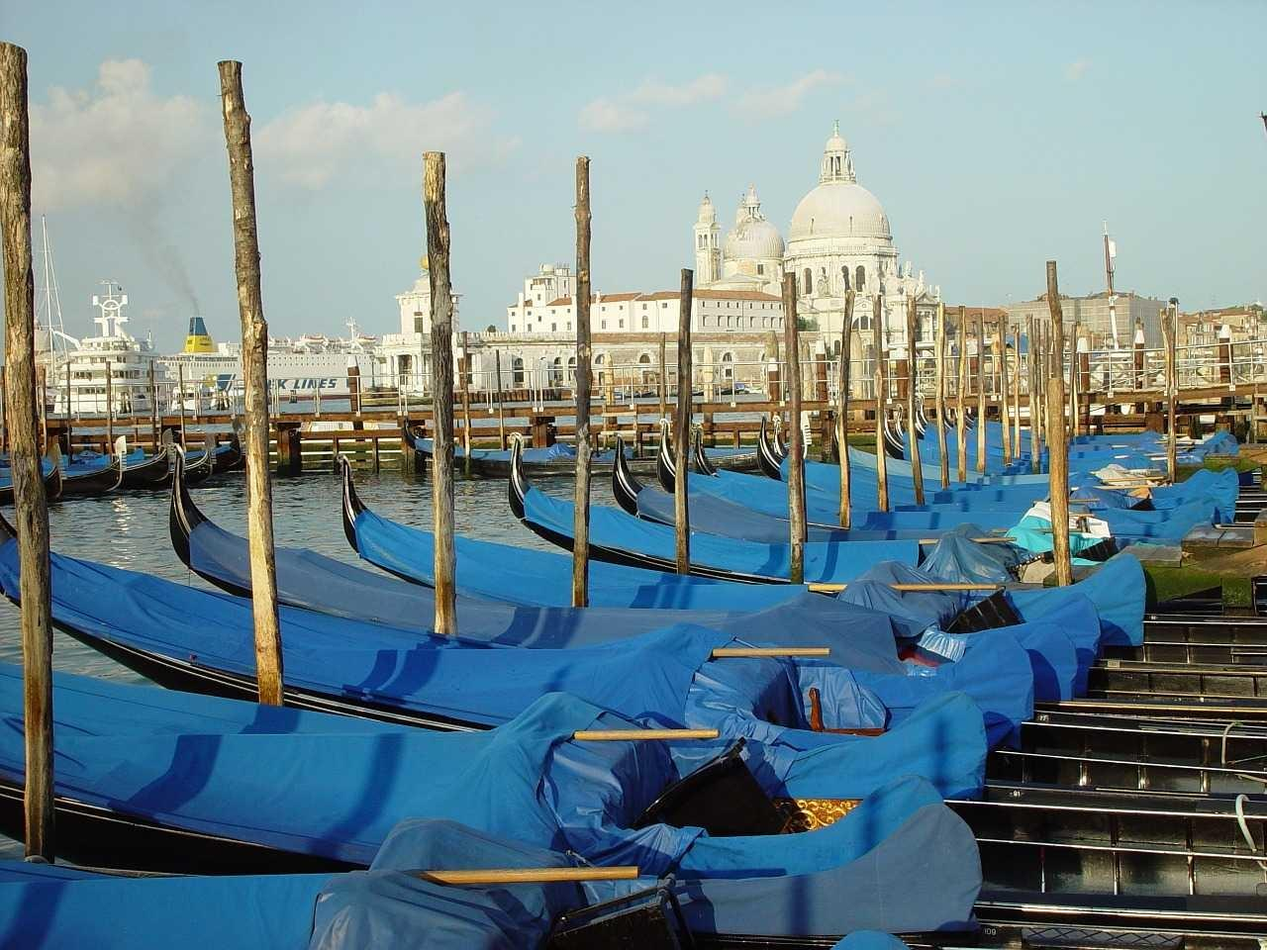kayak: (41, 445, 1069, 789), (4, 640, 990, 937), (510, 432, 1193, 599), (15, 277, 211, 461), (400, 413, 667, 469), (0, 442, 189, 499)
